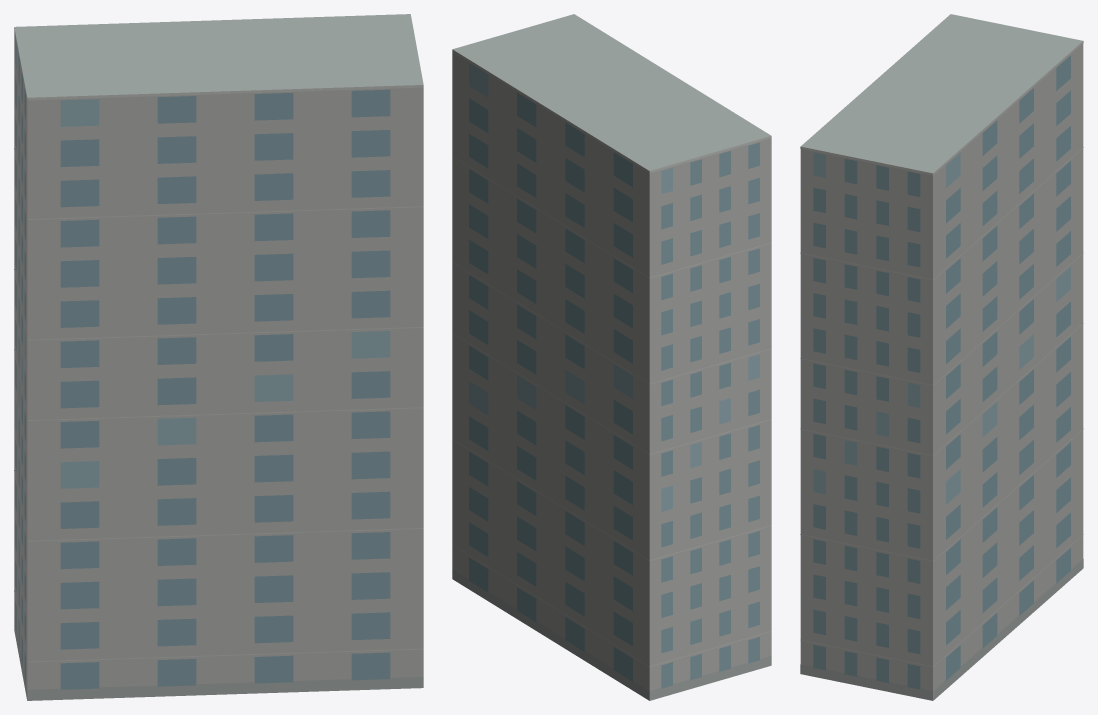
The model's file is residential-626cafde-bc15-47ba-9f10-69435c47769a.glb.
3 views of the same model, side by side, from view 1: azimuth 30°, elevation 25°; view 2: azimuth 150°, elevation 25°; view 3: azimuth 270°, elevation 25° (orthographic). The views are drawn at different scales.
Visible parts, largest first — view 1: residential-626cafde-bc15-47ba-9f10-69435c47769a.tmp; view 2: residential-626cafde-bc15-47ba-9f10-69435c47769a.tmp; view 3: residential-626cafde-bc15-47ba-9f10-69435c47769a.tmp.
Part boxes in pixels (<box>): residential-626cafde-bc15-47ba-9f10-69435c47769a.tmp: <box>14,14,423,700</box>; residential-626cafde-bc15-47ba-9f10-69435c47769a.tmp: <box>452,14,771,700</box>; residential-626cafde-bc15-47ba-9f10-69435c47769a.tmp: <box>800,14,1083,700</box>.
Bounding box in the file's own units: 35.66 × 55 × 26.76.
